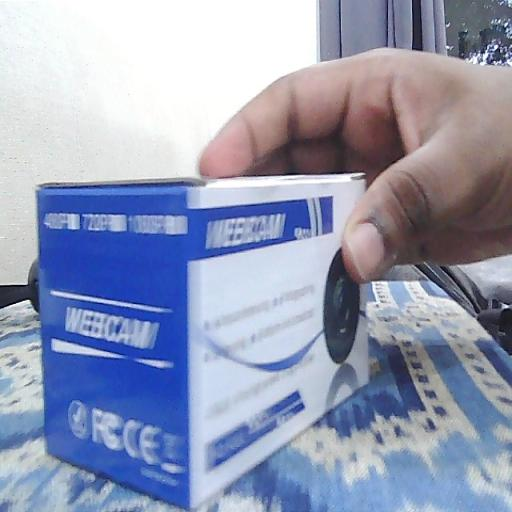webcam_box: (34, 175, 368, 506)
